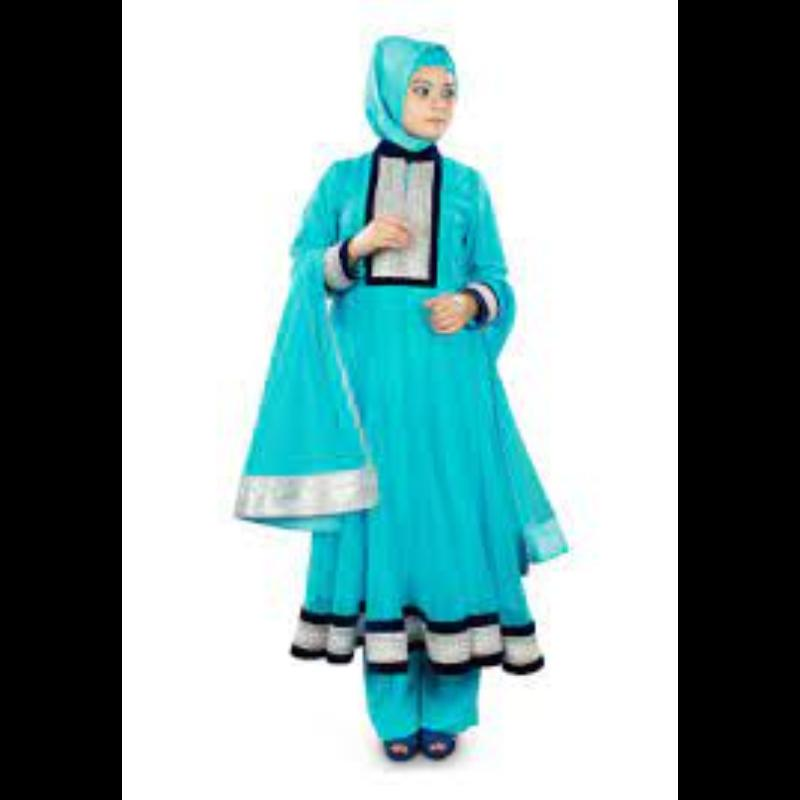Churidaar: (279, 161, 536, 741)
Hijab: (358, 32, 464, 151)
